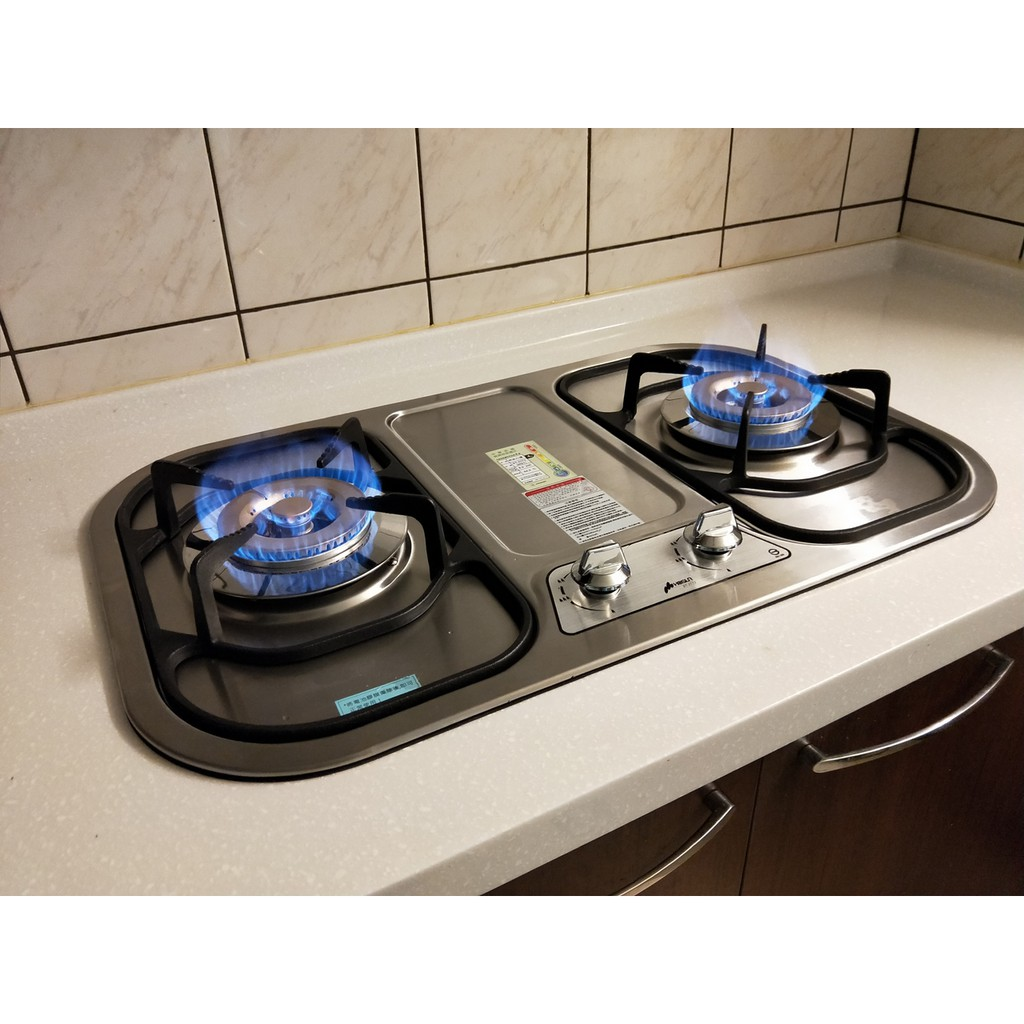gasoven: (59, 311, 1003, 776)
